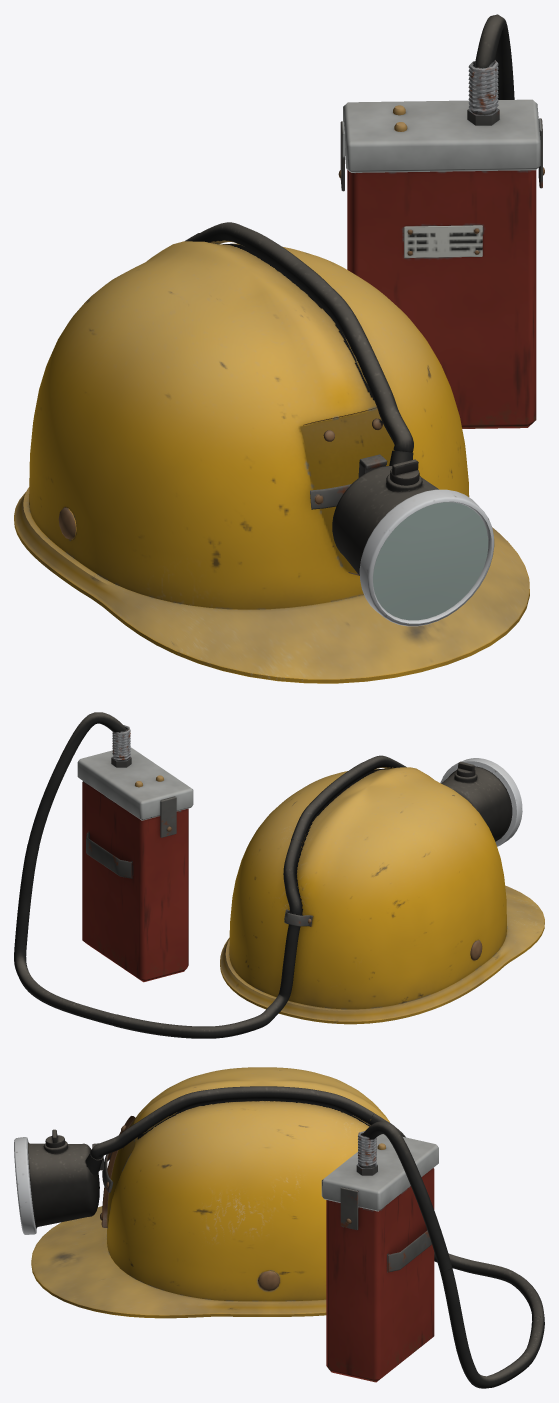
The model's file is HardHat.fbx.
3 views of the same model, one above another, from view 1: azimuth 30°, elevation 25°; view 2: azimuth 150°, elevation 25°; view 3: azimuth 270°, elevation 25° (orthographic). The views are drawn at different scales.
Parts seen in each view (by area): view 1: HardHat_Shell, HardHat_Pack, HardHat_Lens, HardHat_Lamp; view 2: HardHat_Shell, HardHat_Pack, HardHat_Lamp; view 3: HardHat_Shell, HardHat_Pack, HardHat_Lamp.
Part boxes in pixels (x1,y1,x2,y2): HardHat_Shell: (14,222,529,683); HardHat_Pack: (338,14,544,428); HardHat_Lens: (373,502,488,620); HardHat_Lamp: (332,450,494,626); HardHat_Shell: (220,755,544,1024); HardHat_Pack: (14,712,300,1038); HardHat_Lamp: (440,758,522,846); HardHat_Shell: (31,1067,405,1318); HardHat_Pack: (321,1121,544,1388); HardHat_Lamp: (14,1137,104,1234).
Bounding box in the file's own units: 1.4 × 0.8575 × 1.62.
Materials: 2 (2 with a texture image).
